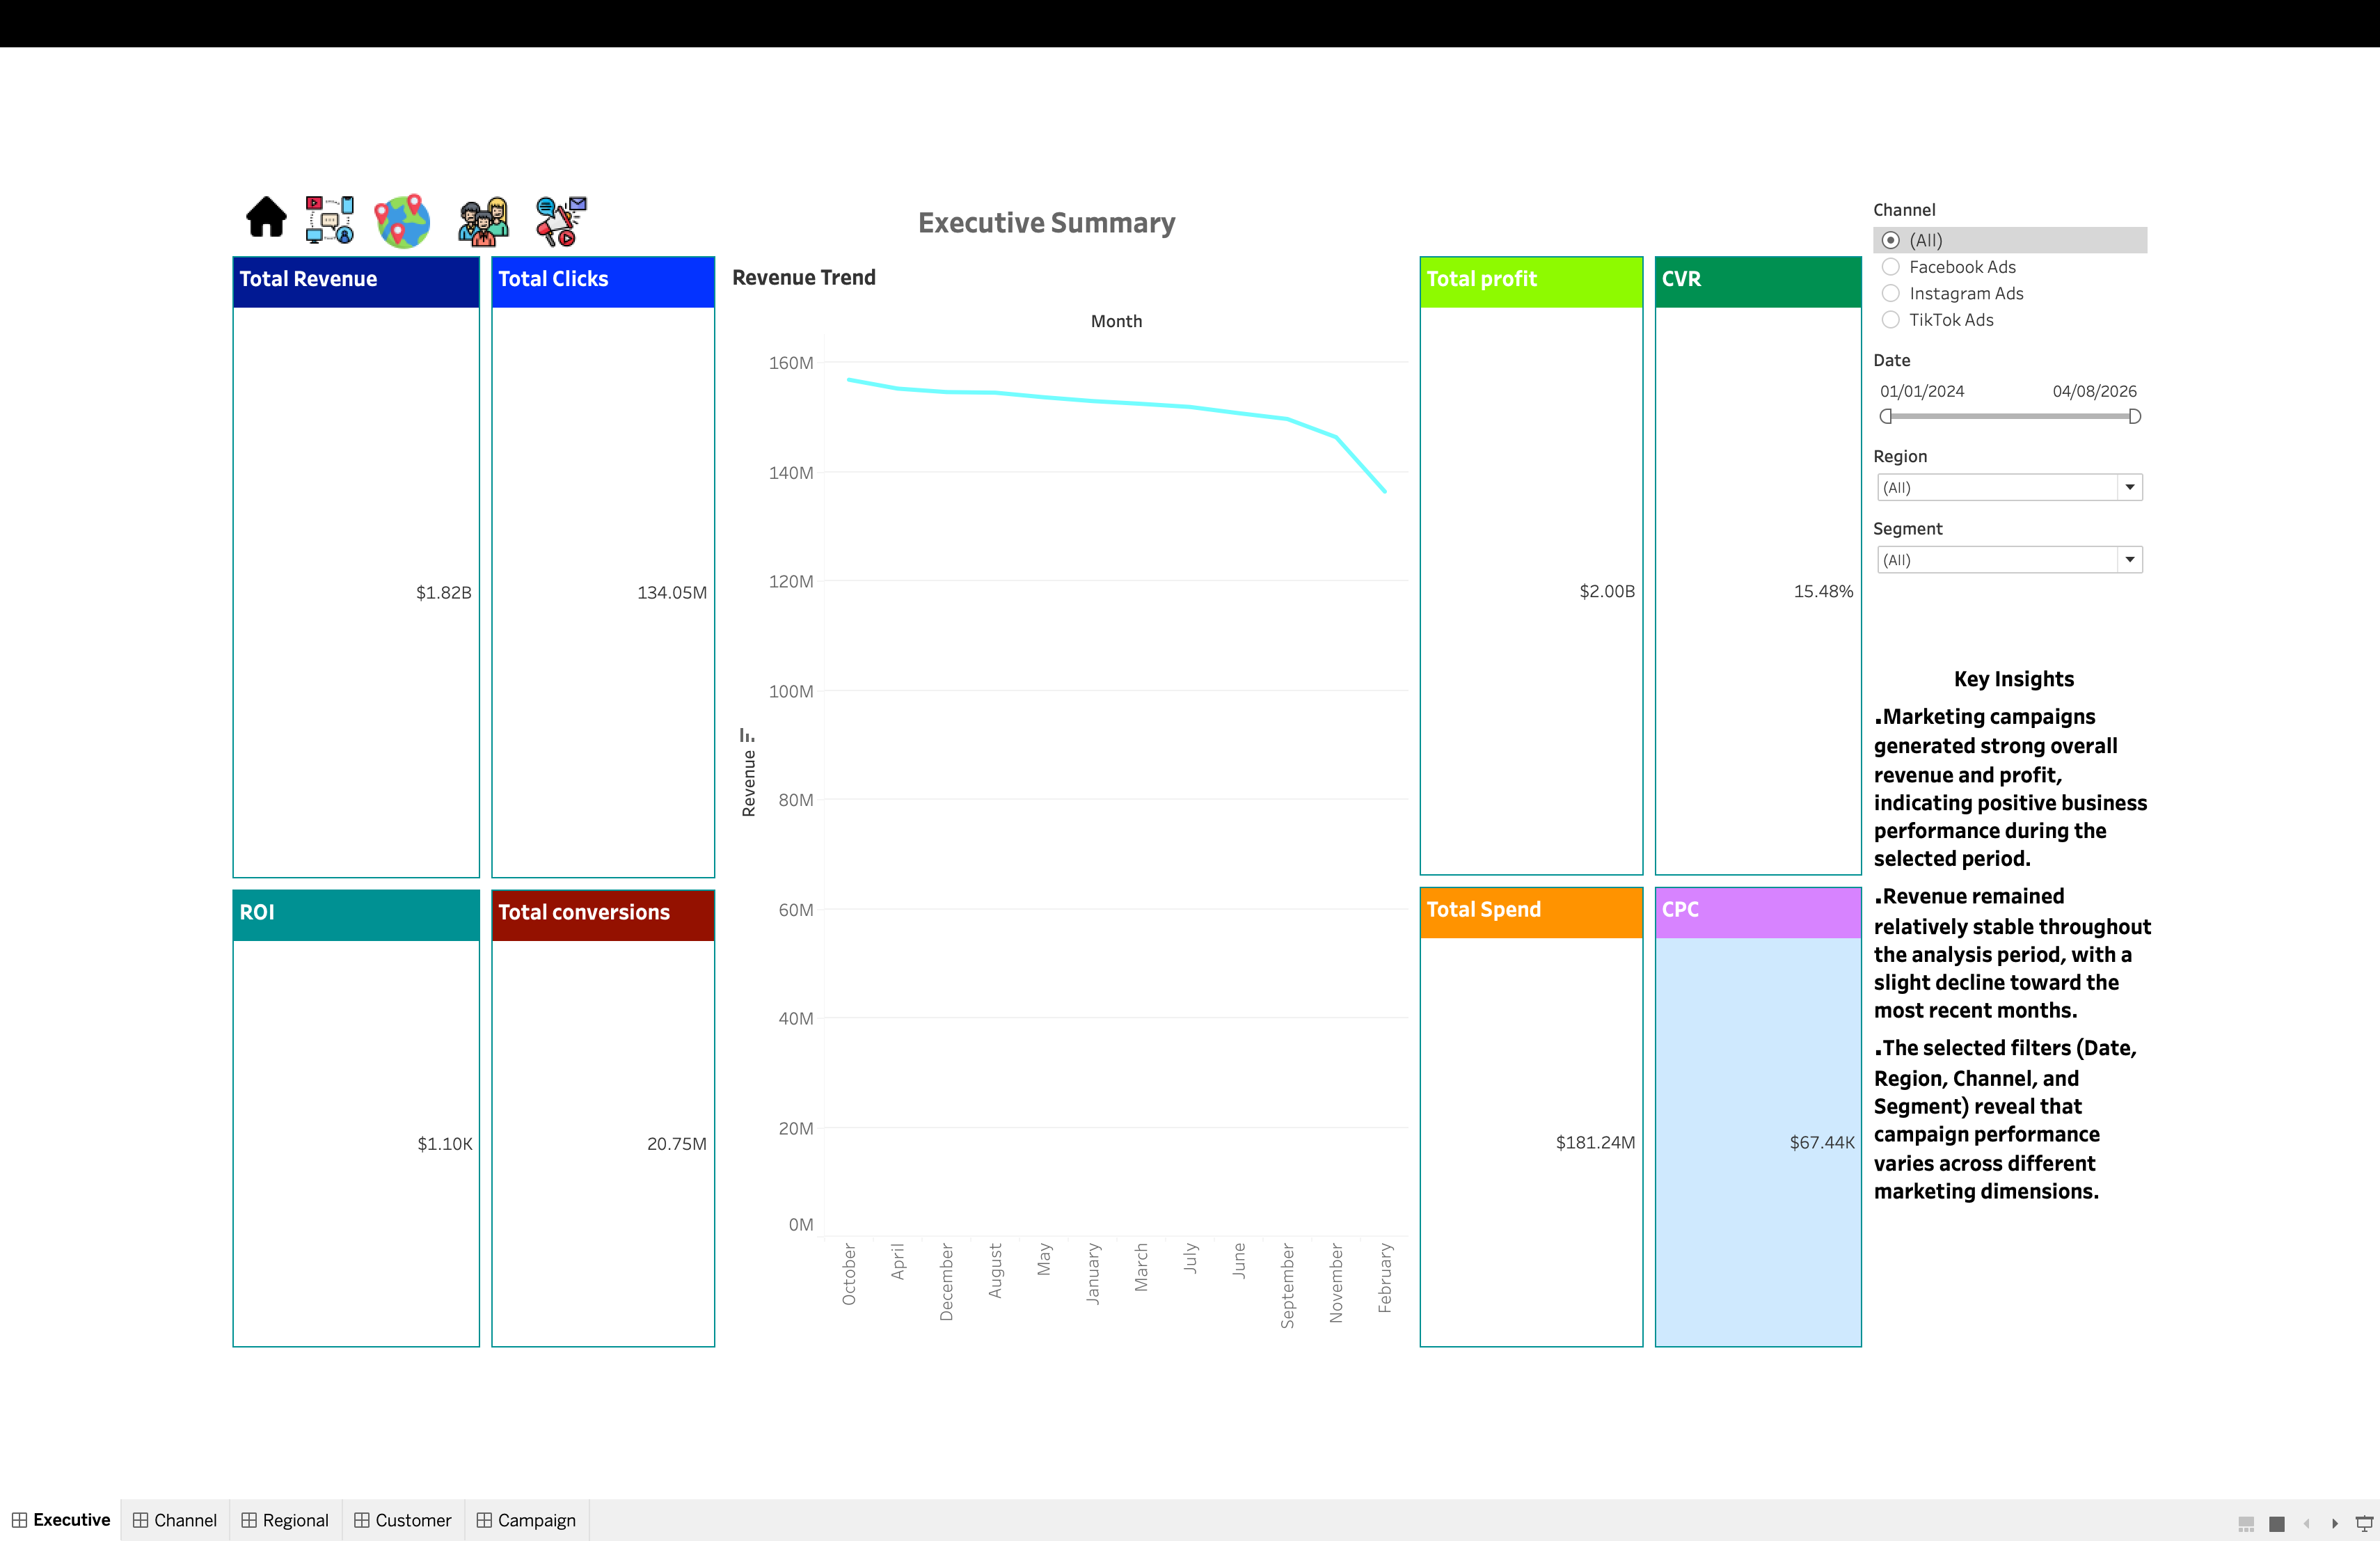

Layout of this report page (visuals, bound fields, positions):
{"tool":"tableau","page":{"name":"Executive","canvas":[1400,850],"ordinal":3},"visuals":[{"type":"text","box":[8,8,1179,42]},{"type":"dashboard-object","box":[114,8,40,42]},{"type":"filter","title":"Sheet 23","param":"[federated.07482ca1xi3uup1bdd56w1jny0fc].[none:channel:nk]","box":[1187,8,205,108]},{"type":"dashboard-object","box":[21,11,30,29]},{"type":"dashboard-object","box":[63,11,38,34]},{"type":"dashboard-object","box":[166,11,54,37]},{"type":"dashboard-object","box":[230,11,37,37]},{"type":"worksheet","title":"Sheet 2","mark":"Automatic","box":[8,50,185.7,455]},{"type":"worksheet","title":"Sheet 5","mark":"Automatic","box":[193.7,50,169.4,455]},{"type":"worksheet","title":"Sheet 23","mark":"Line","rows":["revenue"],"cols":["Month"],"box":[363.1,50,497.5,792]},{"type":"worksheet","title":"Sheet 1","mark":"Automatic","box":[860.6,50,169.3,453]},{"type":"worksheet","title":"Sheet 7","mark":"Automatic","box":[1029.9,50,157.1,453]},{"type":"filter","title":"Sheet 23","param":"[federated.07482ca1xi3uup1bdd56w1jny0fc].[none:date:qk]","box":[1187,116,205,69]},{"type":"filter","title":"Sheet 23","param":"[federated.07482ca1xi3uup1bdd56w1jny0fc].[none:region:nk]","box":[1187,185,205,52]},{"type":"filter","title":"Sheet 23","param":"[federated.07482ca1xi3uup1bdd56w1jny0fc].[none:segment:nk]","box":[1187,237,205,52]},{"type":"text","box":[1189,291,207,551]},{"type":"worksheet","title":"Sheet 4","mark":"Automatic","box":[860.6,503,169.3,339]},{"type":"worksheet","title":"Sheet 8","mark":"Automatic","box":[1029.9,503,157.1,339]},{"type":"worksheet","title":"Sheet 3","mark":"Automatic","box":[8,505,185.7,337]},{"type":"worksheet","title":"Sheet 6","mark":"Automatic","box":[193.7,505,169.4,337]}]}

Visuals, with their boxes on the page's 1400x850 design canvas (x1, y1, x2, y2). These are canvas units, not pixel positions in the 2380x1541 screenshot, which may show the page scaled, cropped or inside an application window:
text: 8,8,1187,50
dashboard-object: 114,8,154,50
"Sheet 23" filter: 1187,8,1392,116
dashboard-object: 21,11,51,40
dashboard-object: 63,11,101,45
dashboard-object: 166,11,220,48
dashboard-object: 230,11,267,48
"Sheet 2" worksheet: 8,50,194,505
"Sheet 5" worksheet: 194,50,363,505
"Sheet 23" worksheet (Line marks): 363,50,861,842
"Sheet 1" worksheet: 861,50,1030,503
"Sheet 7" worksheet: 1030,50,1187,503
"Sheet 23" filter: 1187,116,1392,185
"Sheet 23" filter: 1187,185,1392,237
"Sheet 23" filter: 1187,237,1392,289
text: 1189,291,1396,842
"Sheet 4" worksheet: 861,503,1030,842
"Sheet 8" worksheet: 1030,503,1187,842
"Sheet 3" worksheet: 8,505,194,842
"Sheet 6" worksheet: 194,505,363,842
